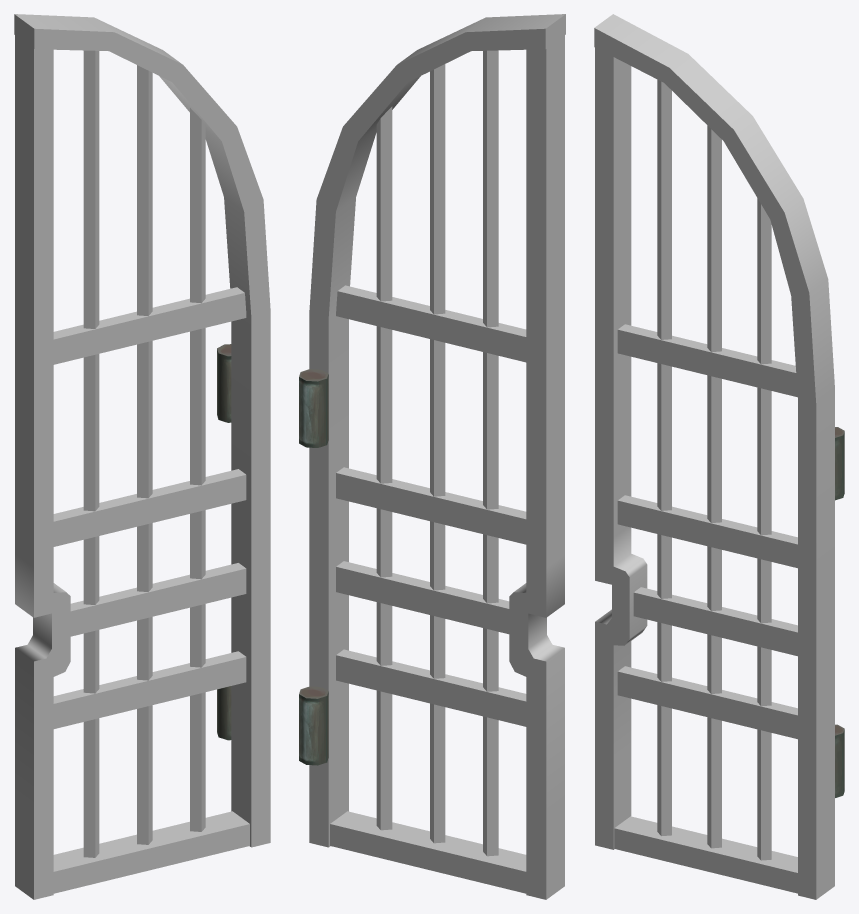
The model's file is Metal_Door_Left.FBX.
3 renders of one model, left to right at view 1: azimuth 30°, elevation 25°; view 2: azimuth 150°, elevation 25°; view 3: azimuth 330°, elevation 25°, orthographic. The views are drawn at different scales.
Visible parts, largest first — view 1: Metal_Door_Left; view 2: Metal_Door_Left; view 3: Metal_Door_Left.
Part boxes in pixels (bbox=[...]): Metal_Door_Left: bbox=[14, 14, 270, 899]; Metal_Door_Left: bbox=[299, 14, 565, 899]; Metal_Door_Left: bbox=[594, 14, 844, 899].
Bounding box in the file's own units: 137 × 34.76 × 478.
